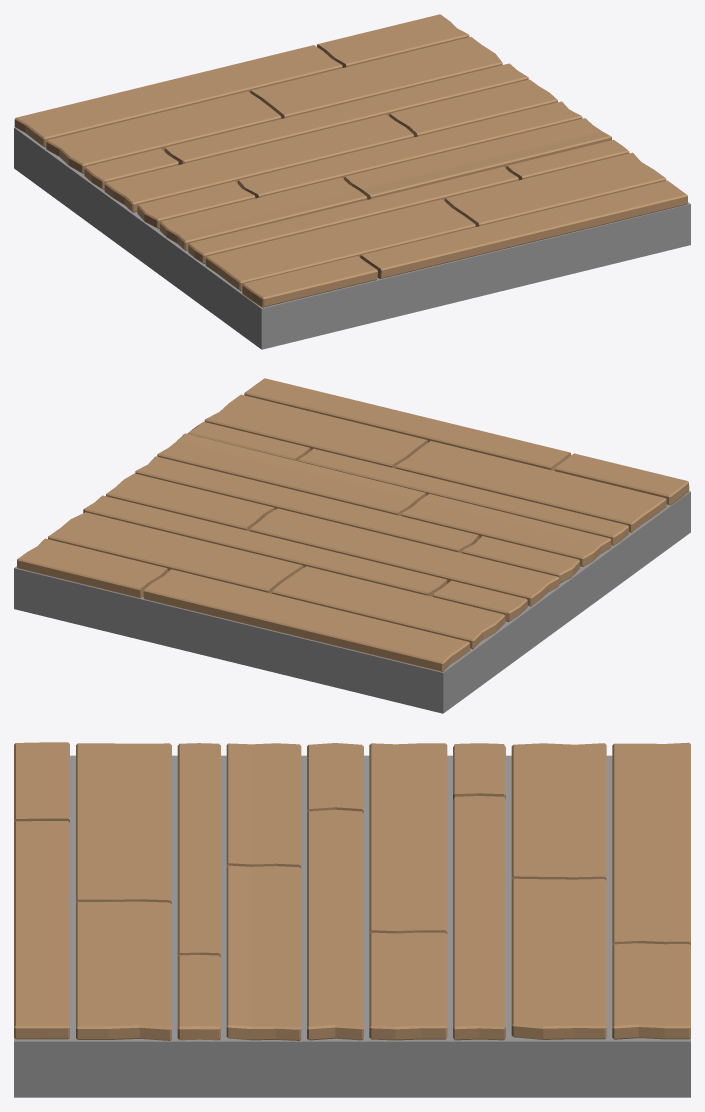
The model's file is Foundation B.glb.
3 views of the same model, one above another, from view 1: azimuth 30°, elevation 25°; view 2: azimuth 150°, elevation 25°; view 3: azimuth 270°, elevation 25° (orthographic). The views are drawn at different scales.
Visible parts, largest first — view 1: Foundation B; view 2: Foundation B; view 3: Foundation B.
Boxes of the visible parts, x1=… form: Foundation B: x1=14, y1=14, x2=690, y2=349; Foundation B: x1=14, y1=378, x2=690, y2=713; Foundation B: x1=14, y1=742, x2=690, y2=1097.
Size of the model in its own units: 330 by 38.38 by 330.
